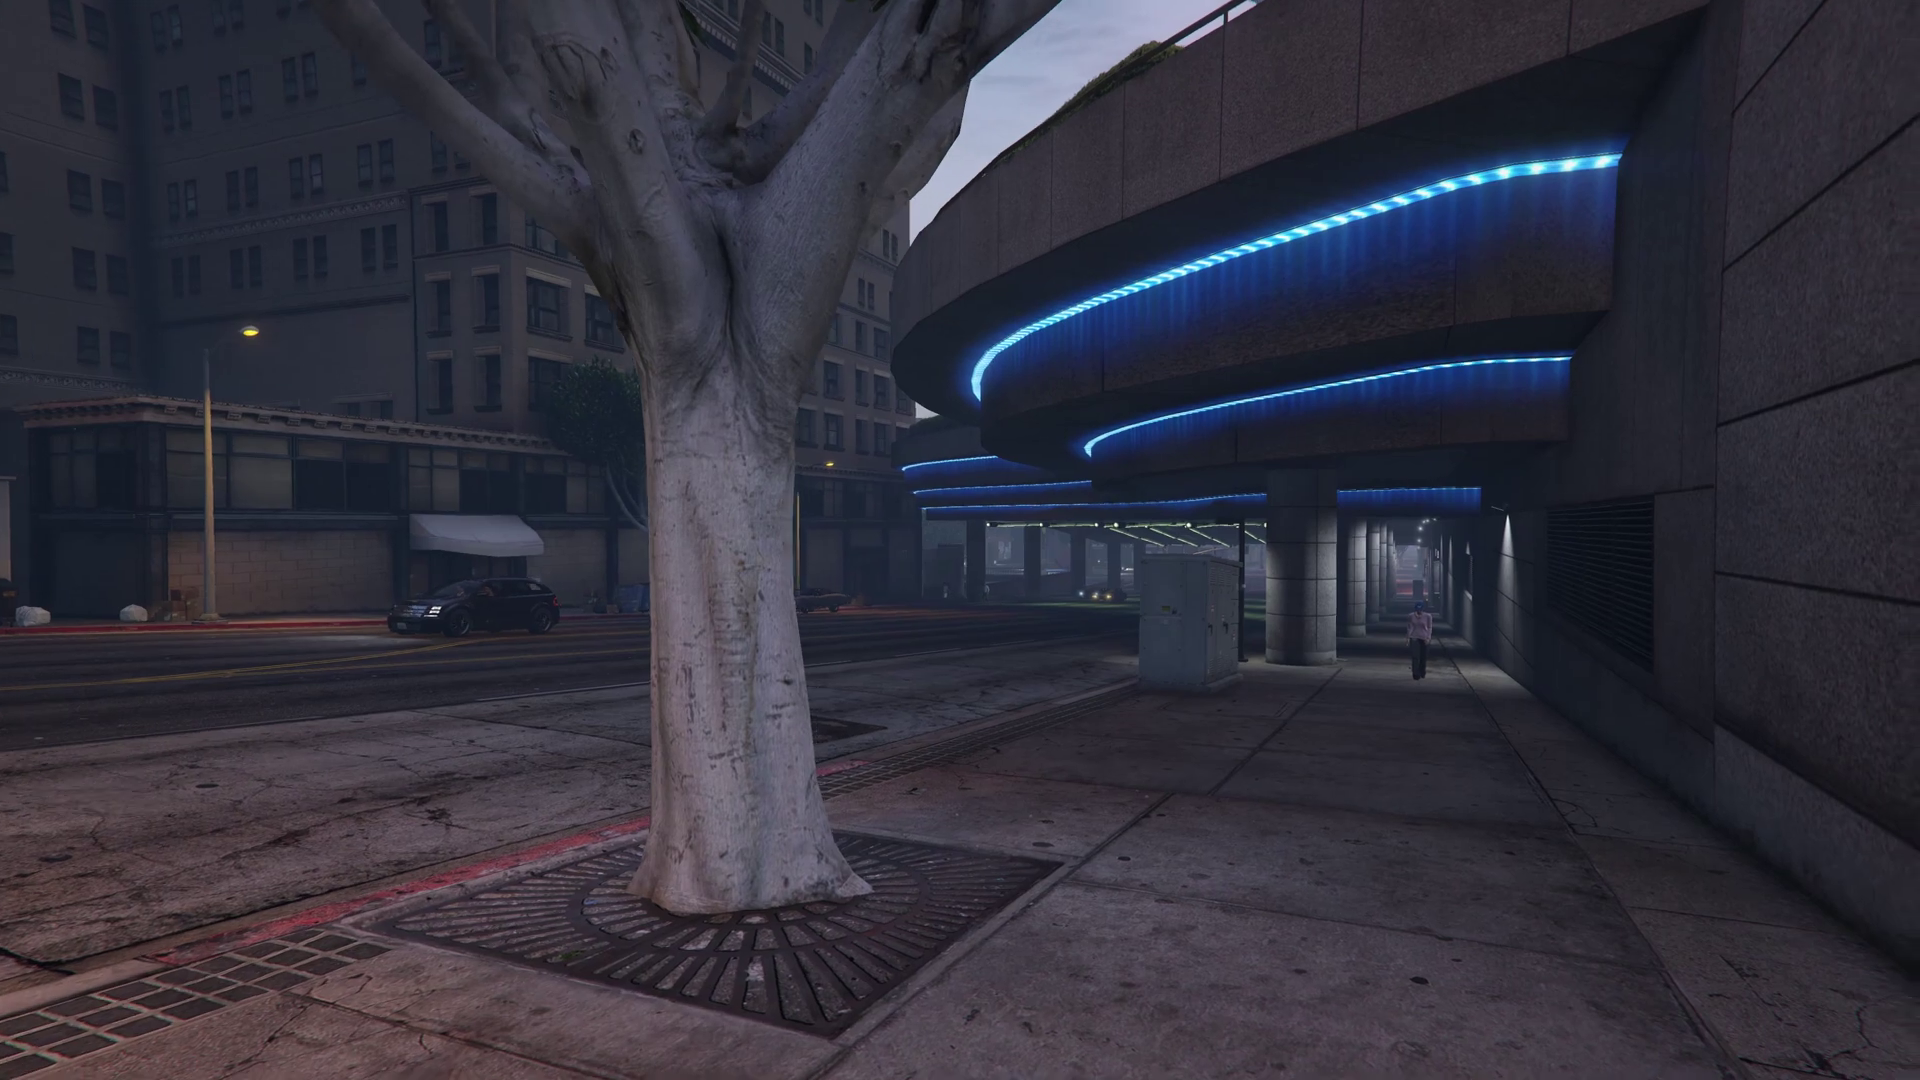car: (387, 578, 561, 635), (1093, 588, 1127, 603)
person: (1405, 602, 1431, 682)
